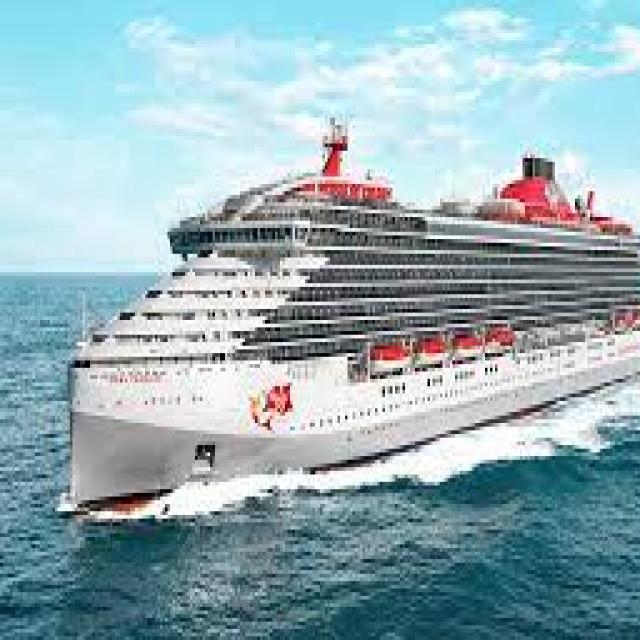passenger ship: (55, 121, 640, 508)
